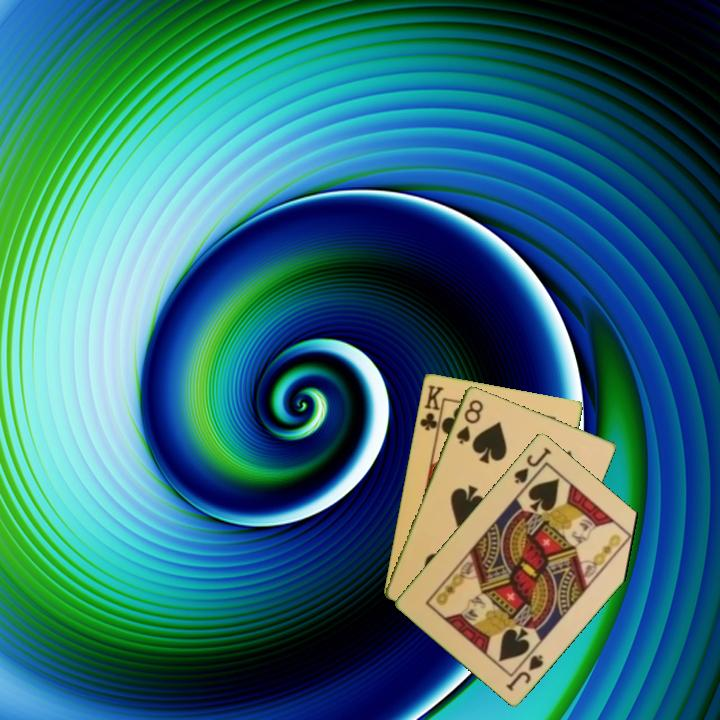8s: (453, 395, 486, 447)
Js: (502, 650, 547, 693), (510, 443, 554, 486)
Kc: (416, 381, 446, 437)
